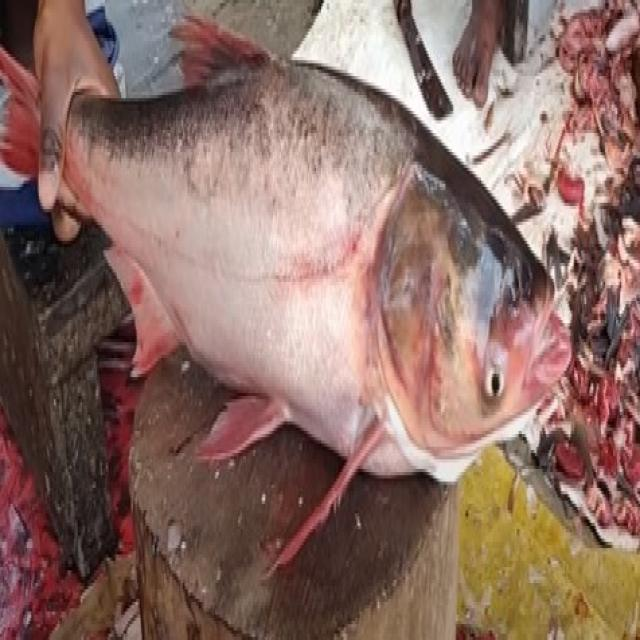Big-Head-Carp: (18, 12, 579, 558)
